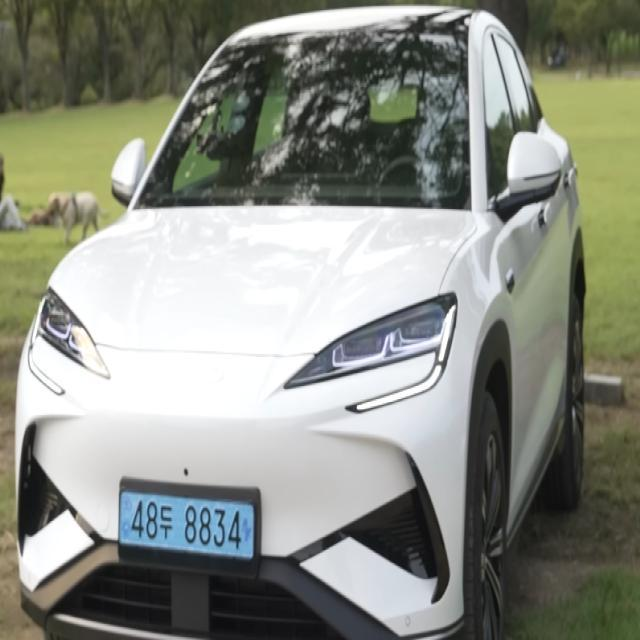car: (96, 458, 288, 587)
carev: (113, 472, 134, 554), (239, 486, 260, 564)
